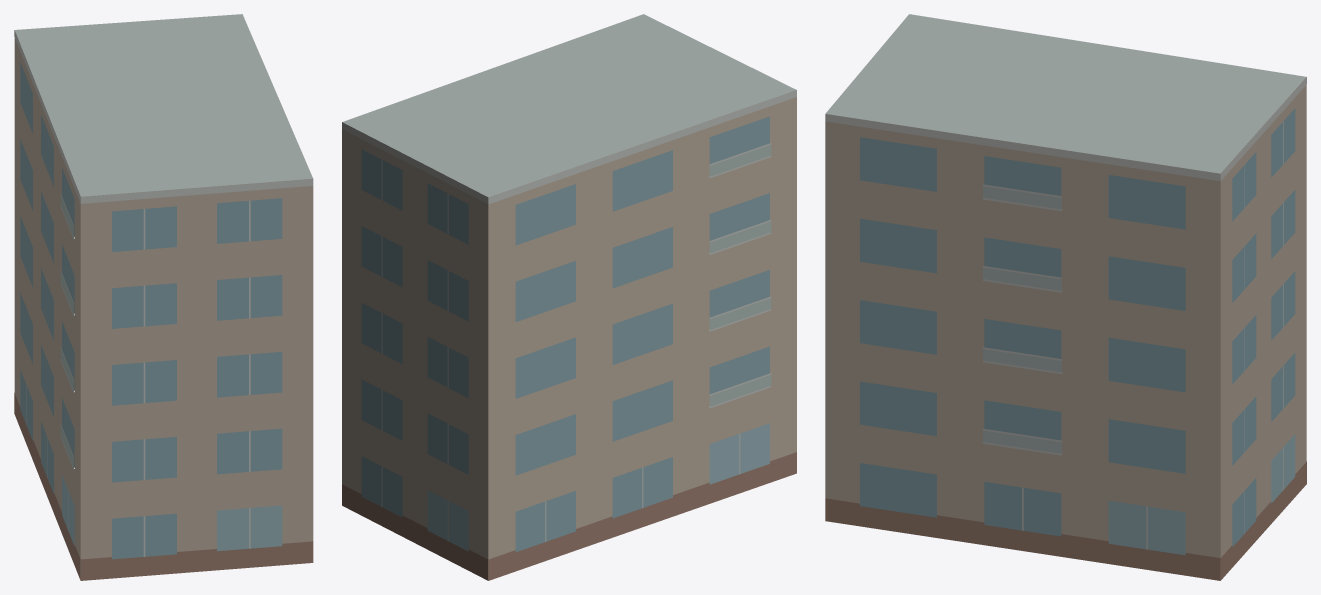
The model's file is survey-upis-32893664.glb.
3 views of the same model, side by side, from view 1: azimuth 30°, elevation 25°; view 2: azimuth 150°, elevation 25°; view 3: azimuth 270°, elevation 25° (orthographic). The views are drawn at different scales.
Visible parts, largest first — view 1: survey-upis-32893664.tmp; view 2: survey-upis-32893664.tmp; view 3: survey-upis-32893664.tmp.
Part boxes in pixels (<box>): survey-upis-32893664.tmp: <box>14,14,313,580</box>; survey-upis-32893664.tmp: <box>342,14,796,580</box>; survey-upis-32893664.tmp: <box>825,14,1306,580</box>.
Bounding box in the file's own units: 11.11 × 13.2 × 14.16.
